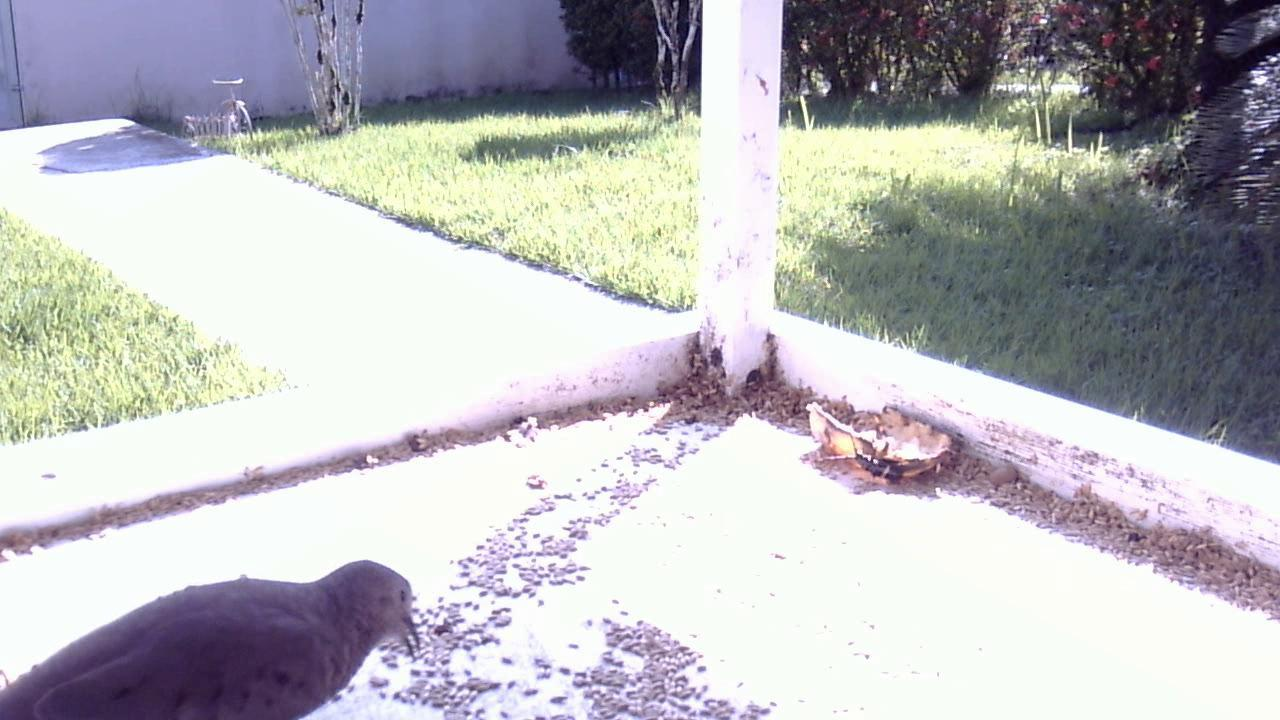rolinha: (1, 538, 430, 720)
